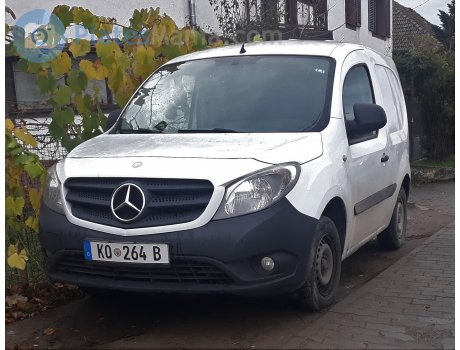License Plates: (92, 239, 164, 262)
